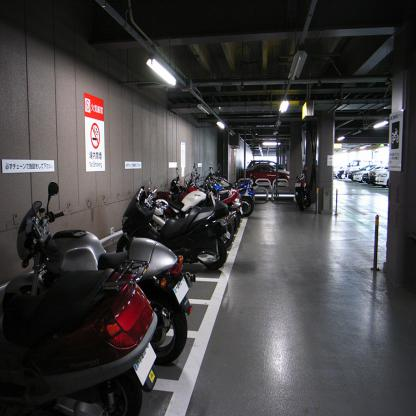Car: (353, 161, 379, 184)
